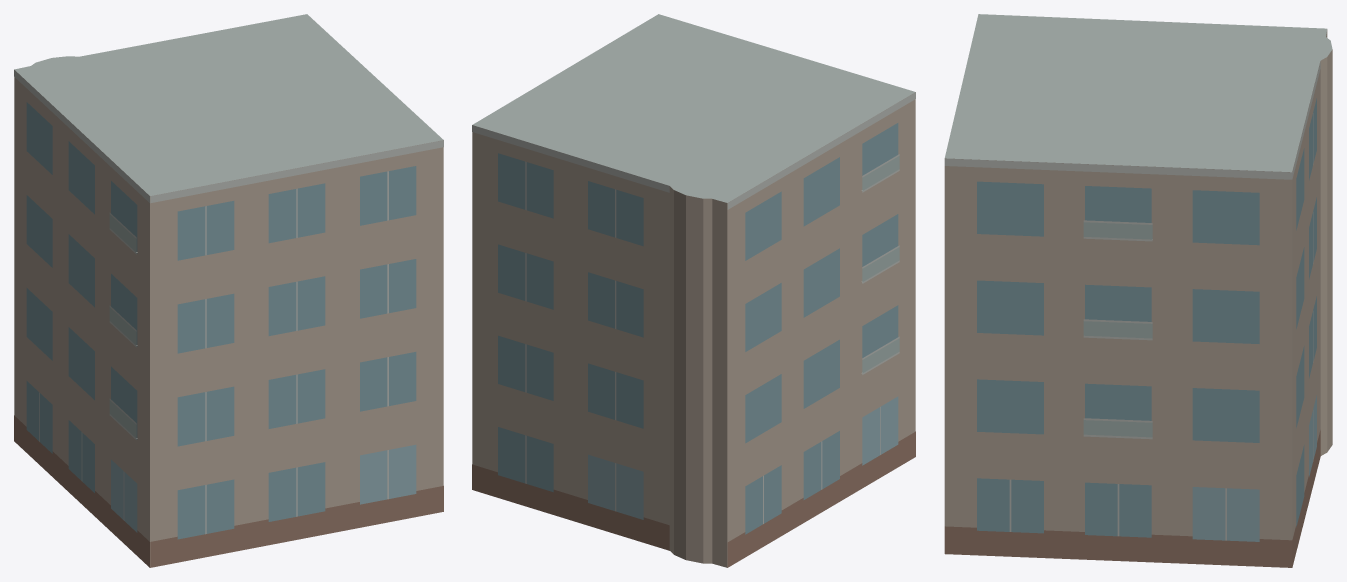
File: survey-upis-32498866.glb
3 renders of one model, left to right at view 1: azimuth 30°, elevation 25°; view 2: azimuth 150°, elevation 25°; view 3: azimuth 270°, elevation 25°, orthographic. The views are drawn at different scales.
Visible parts, largest first — view 1: survey-upis-32498866.tmp; view 2: survey-upis-32498866.tmp; view 3: survey-upis-32498866.tmp.
Boxes of the visible parts, x1=… form: survey-upis-32498866.tmp: x1=14, y1=14, x2=443, y2=567; survey-upis-32498866.tmp: x1=472, y1=14, x2=915, y2=567; survey-upis-32498866.tmp: x1=944, y1=14, x2=1332, y2=567.
Size of the model in its own units: 10.9 by 12.7 by 11.29.
